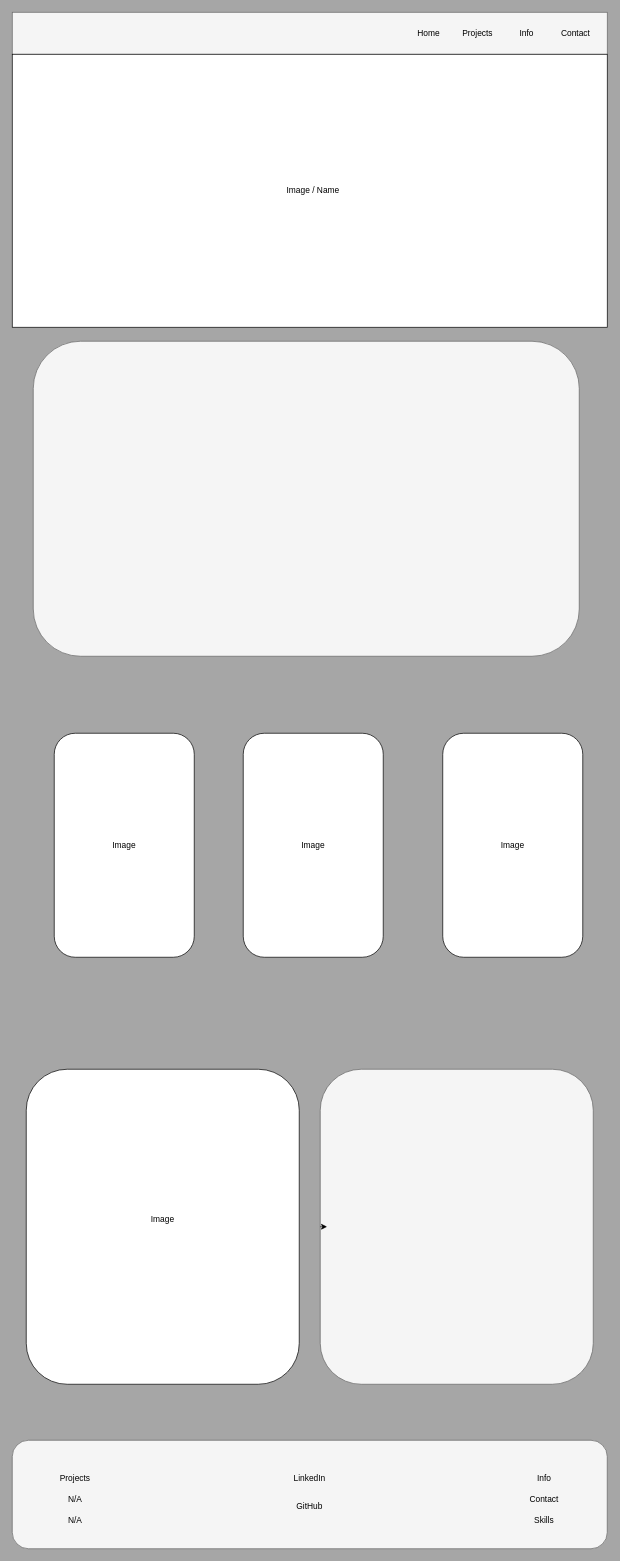
The diagram is 620 pixels wide and 1561 high, and some of its shapes have lost their labels. The centre of each missing label's shape, as x and y in pixels:
Intro That Scales Over Image / Name: the point at 306,498
Skill Section: the point at 456,1226
